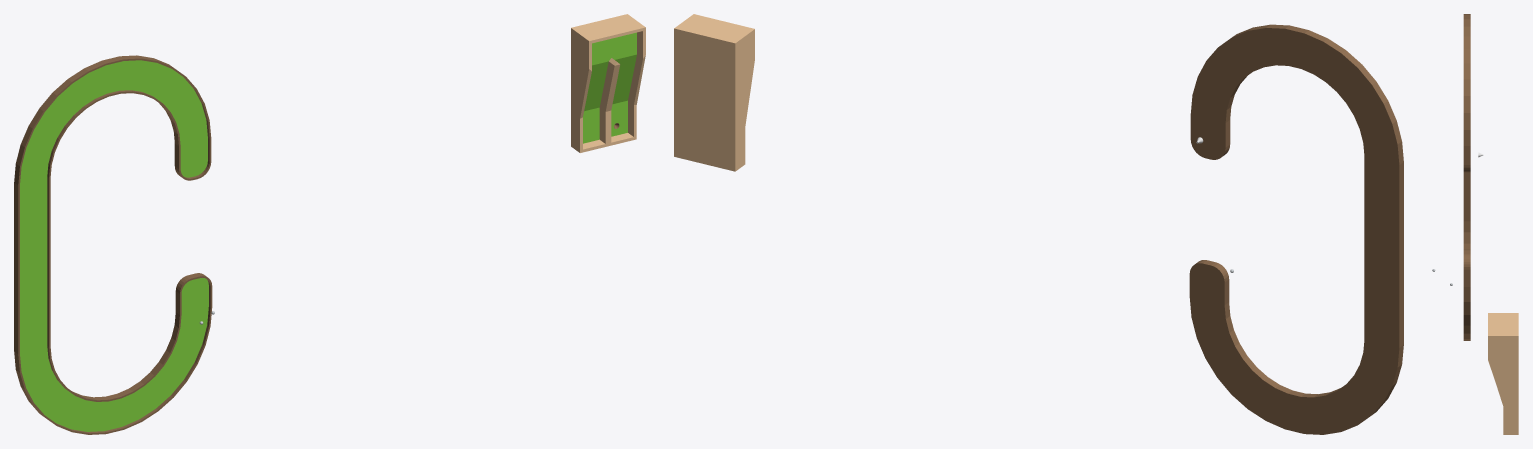
Rendered from minigolf_course_test.gltf.
The picture shows the model from 3 angles, left to right: view 1: azimuth 30°, elevation 25°; view 2: azimuth 150°, elevation 25°; view 3: azimuth 270°, elevation 25°; orthographic projection. The views are drawn at different scales.
Parts seen in each view (by area): view 1: Cube.001, Course; view 2: Cube.001, Course; view 3: Course, Cube.001.
Boxes of the visible parts, left/top/right/bottom form: Cube.001: left=14, top=55, right=212, bottom=434; Course: left=571, top=14, right=645, bottom=152; Cube.001: left=1189, top=24, right=1403, bottom=434; Course: left=674, top=14, right=754, bottom=171; Course: left=1488, top=313, right=1518, bottom=434; Cube.001: left=1463, top=14, right=1470, bottom=340.
Bounding box in the file's own units: 9.94 × 5.48 × 1.39.
